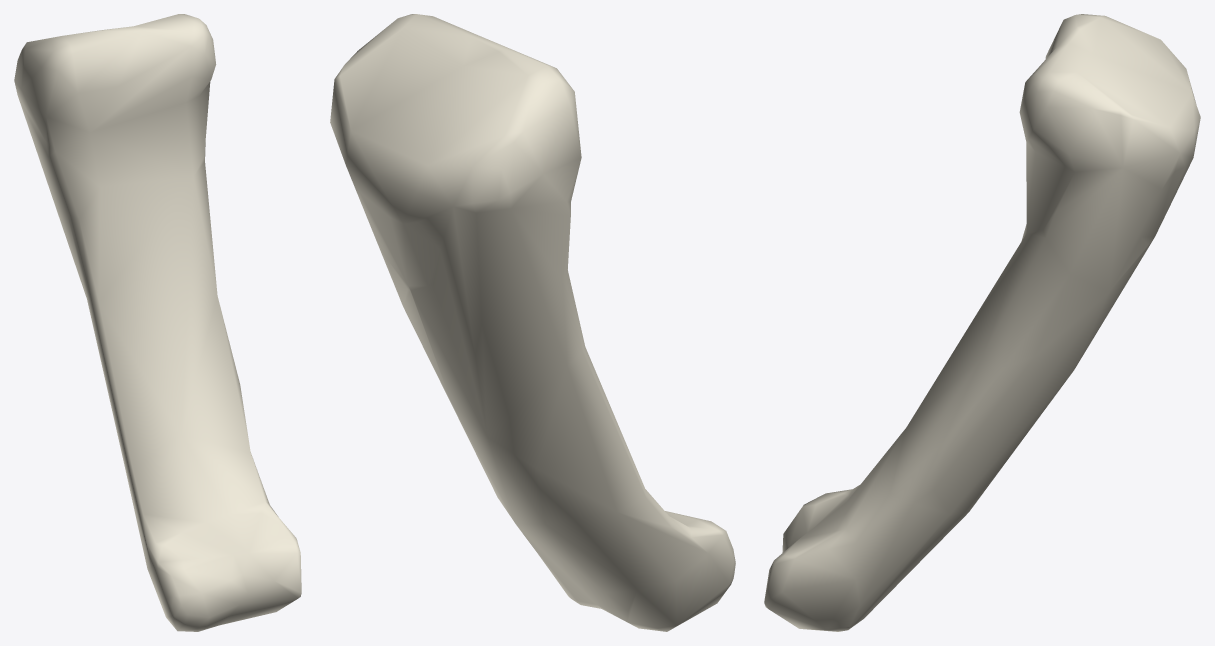
The picture shows the model from 3 angles, left to right: view 1: azimuth 30°, elevation 25°; view 2: azimuth 150°, elevation 25°; view 3: azimuth 270°, elevation 25°; orthographic projection. The views are drawn at different scales.
Visible parts, largest first — view 1: ZA_ce23d4b5c9b625bd; view 2: ZA_ce23d4b5c9b625bd; view 3: ZA_ce23d4b5c9b625bd.
Part boxes in pixels (box(x1,y1,x2,y2)): ZA_ce23d4b5c9b625bd: box(14, 14, 301, 631); ZA_ce23d4b5c9b625bd: box(330, 14, 735, 631); ZA_ce23d4b5c9b625bd: box(764, 14, 1200, 631).
Bounding box in the file's own units: 0.0139 × 0.0404 × 0.0273.
